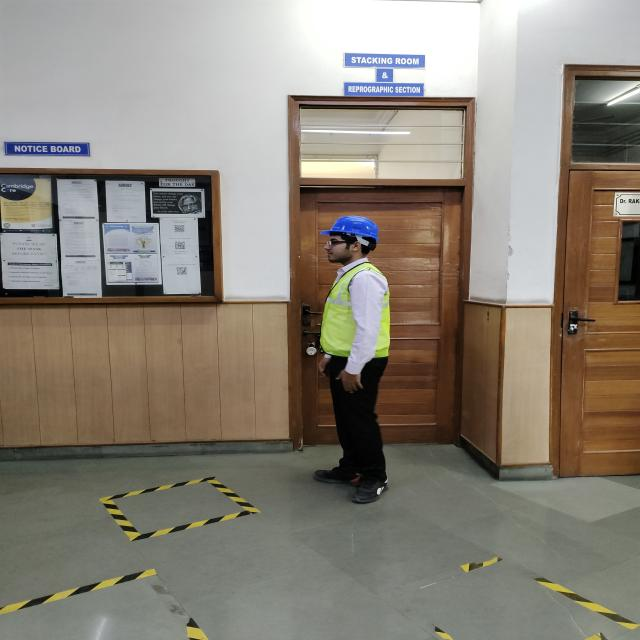safe: (319, 216, 390, 502)
